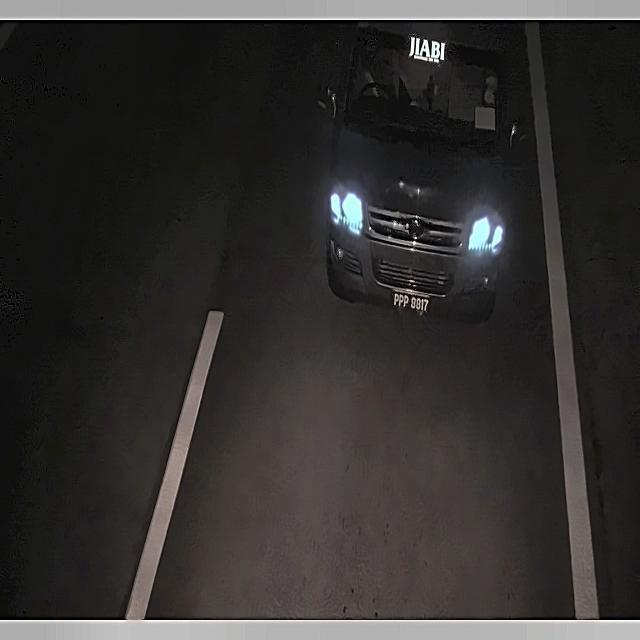car: (388, 289, 430, 318)
